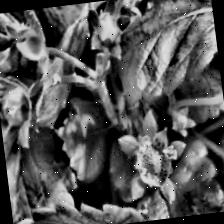Blossom Blight: (132, 132, 180, 188)
